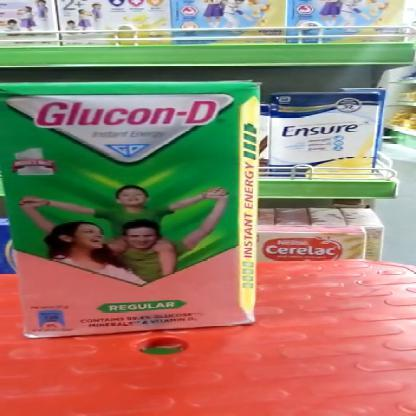Glucon D Regular 1-KG: (2, 83, 257, 331)
